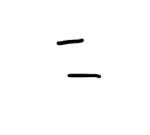eqv: (56, 39, 102, 79)
